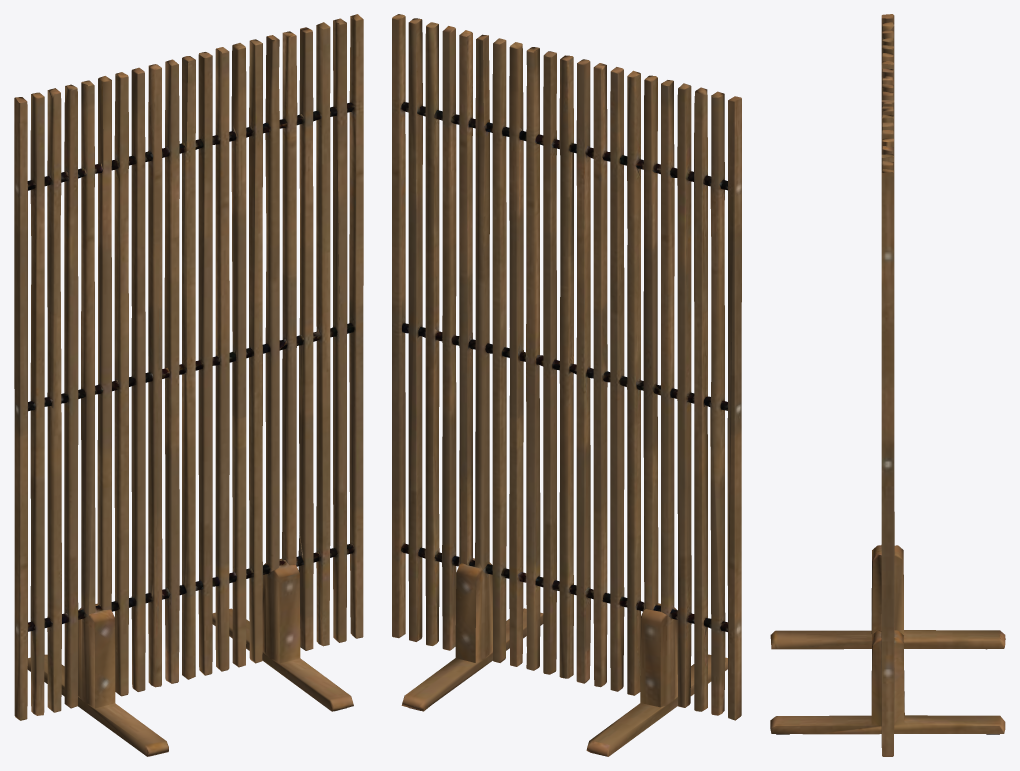
The model's file is 06 - NÄMMARÖ Privacy screen - light brown stained indooroutdoor 140x80x50 cm.glb.
The picture shows the model from 3 angles, left to right: view 1: azimuth 30°, elevation 25°; view 2: azimuth 150°, elevation 25°; view 3: azimuth 270°, elevation 25°; orthographic projection. The views are drawn at different scales.
Visible parts, largest first — view 1: ProcessedMeshNode; view 2: ProcessedMeshNode; view 3: ProcessedMeshNode.
Boxes of the visible parts, left/top/right/bottom form: ProcessedMeshNode: left=14, top=14, right=363, bottom=756; ProcessedMeshNode: left=392, top=14, right=741, bottom=756; ProcessedMeshNode: left=770, top=14, right=1005, bottom=756.
Size of the model in its own units: 0.7987 by 1.4 by 0.5009.
1 material, 1 textured.
